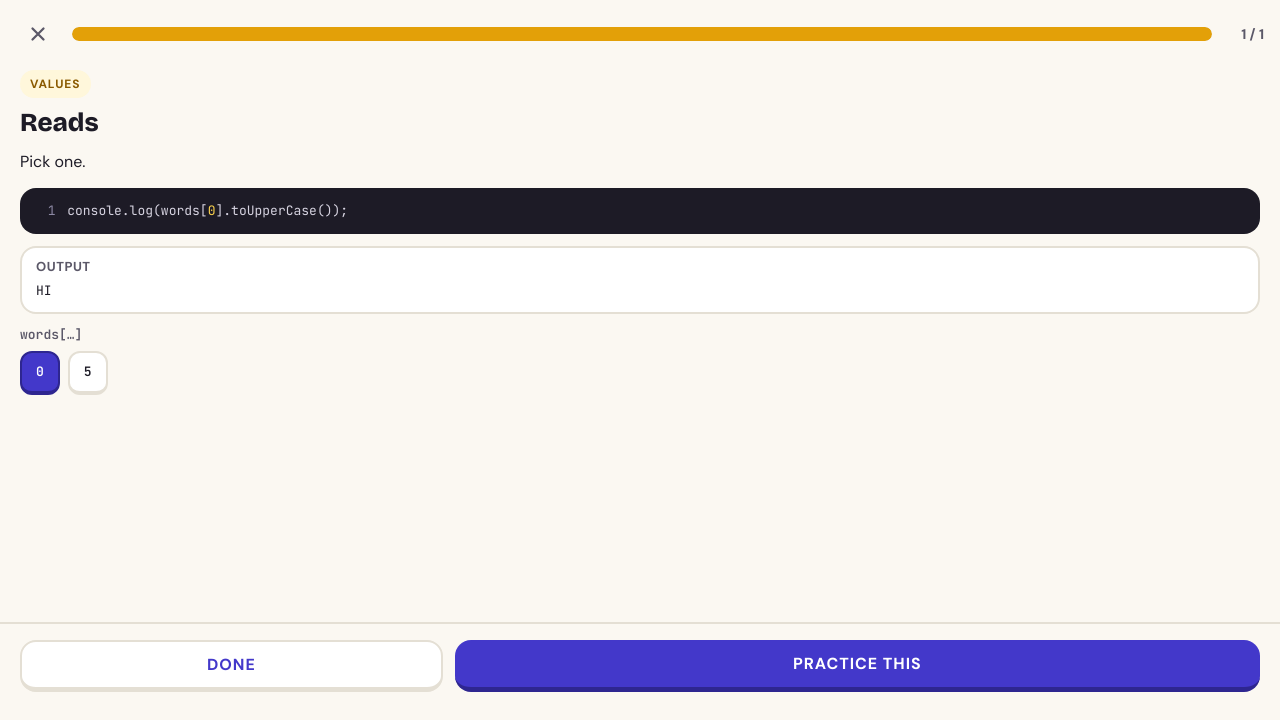
Learn with TypeScript demos › labels the code as TypeScript and swaps Output for Output + Runtime error on tap
Check: the element named "TypeScript code" shows "console.log(words[0].toUpperCase());", box [20,188,1260,234]
Check: the element named "TypeScript code" does not show "const words", box [20,188,1260,234]
Click the button "5": point(88, 373) [68,351,108,395]
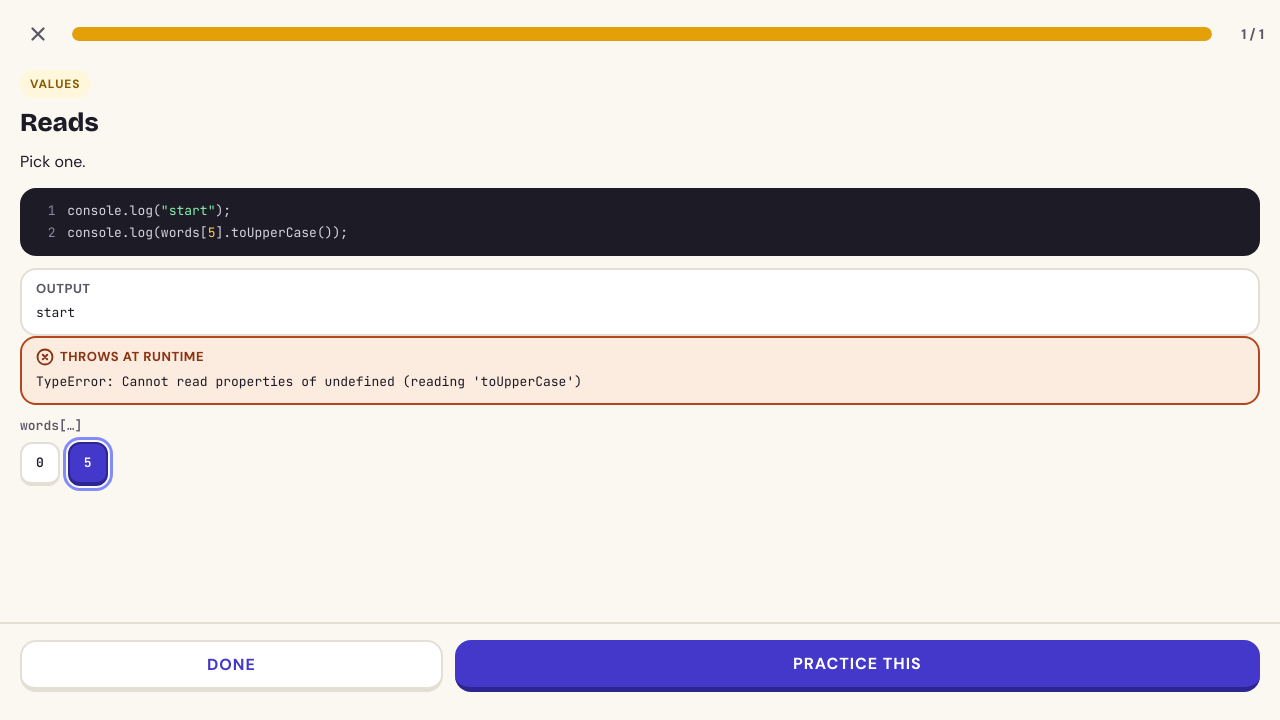
Check: the element "Output" shows "start", box [36,304,75,321]
Check: the element named "Runtime error" shows "Throws at runtime", box [60,348,204,365]
Check: the element named "Runtime error" shows "TypeError: Cannot read properties of undefined (reading 'toUpperCase')", box [36,373,582,390]
